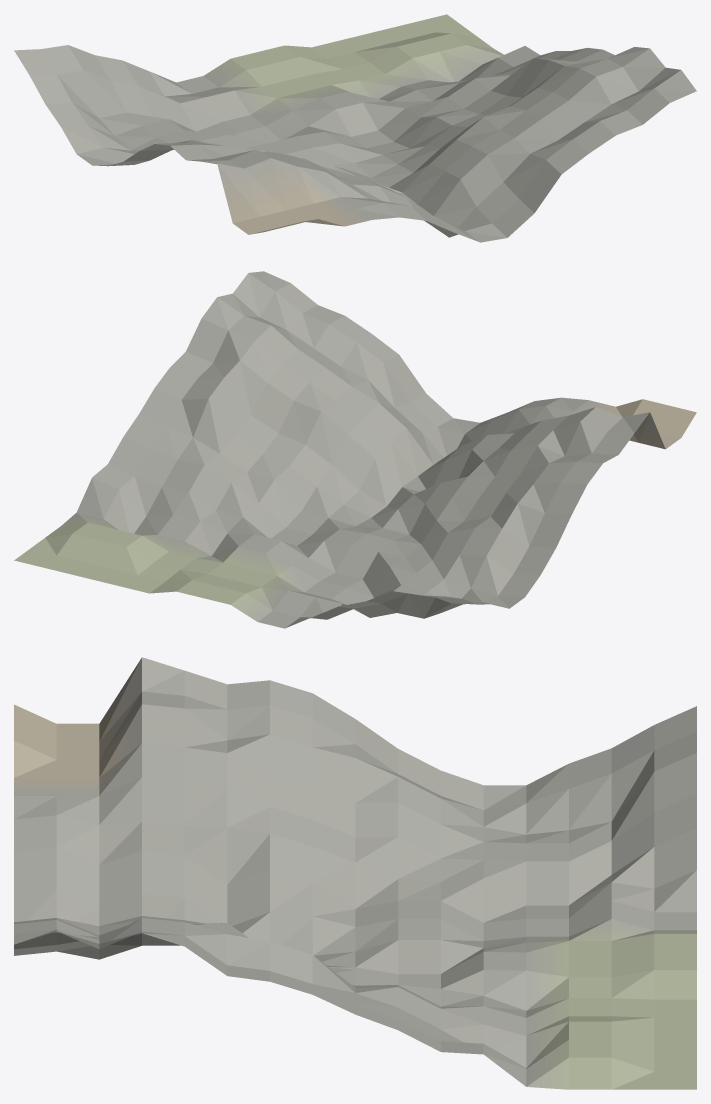
3 renders of one model, top to bottom at view 1: azimuth 30°, elevation 25°; view 2: azimuth 150°, elevation 25°; view 3: azimuth 270°, elevation 25°, orthographic. The views are drawn at different scales.
Size of the model in its own units: 32 by 8.94 by 32.
